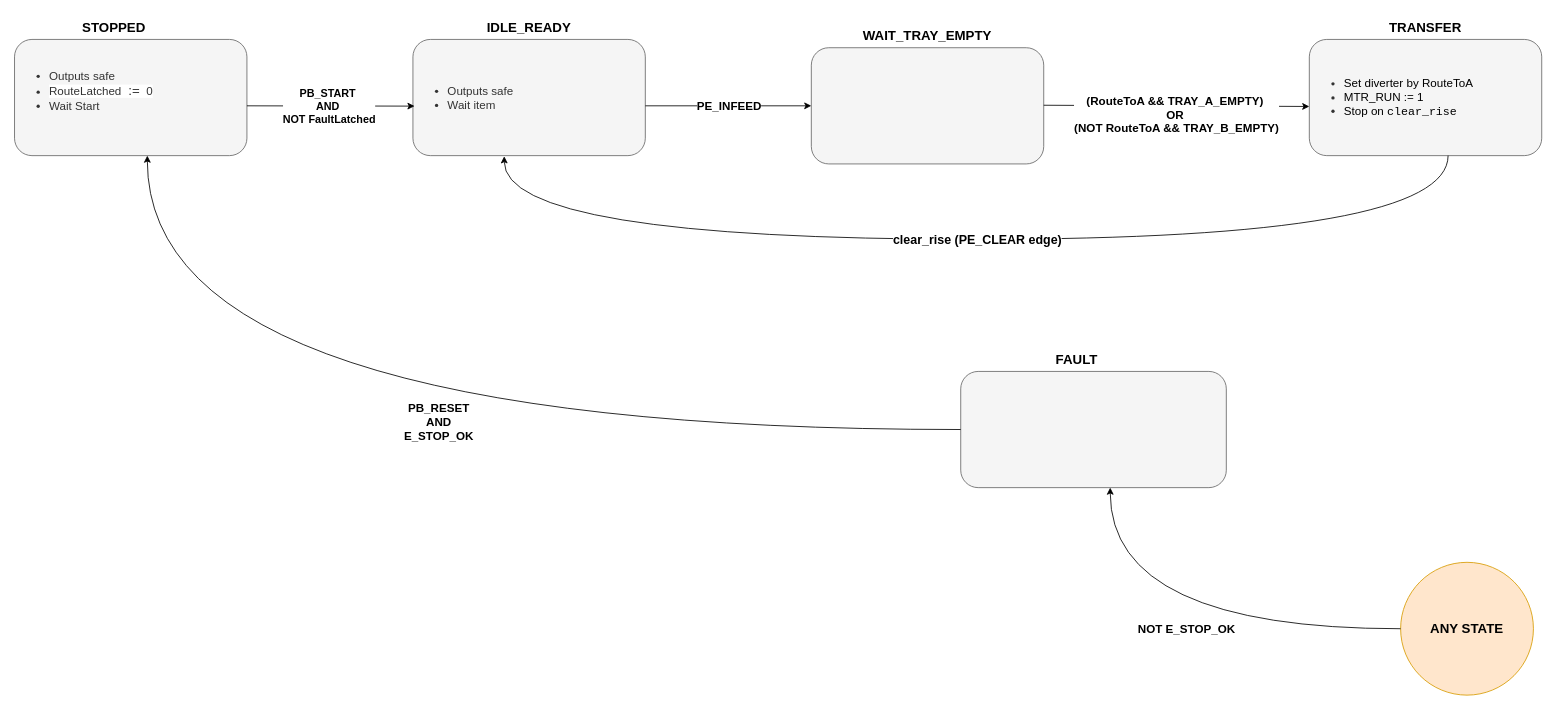
Some shapes in this 1556 by 710 pixel diagram are drawn without their labels. Here are the shapes that lost their labels. From the top down, the box of each, then its label:
(810, 47, 1044, 164): Latch route once Wait destination tray empty
(960, 371, 1226, 488): ALARM := 1 Wait Reset (E-Stop OK)
